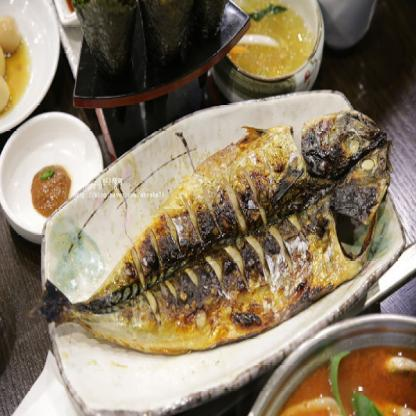Peixe: (34, 105, 392, 388)
